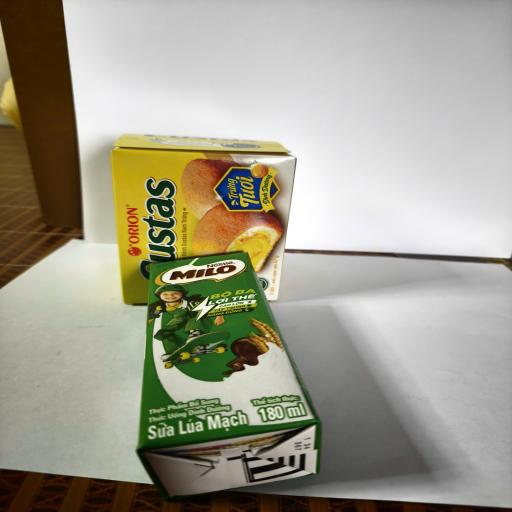custas: (110, 133, 296, 306)
milo: (136, 252, 322, 501)
